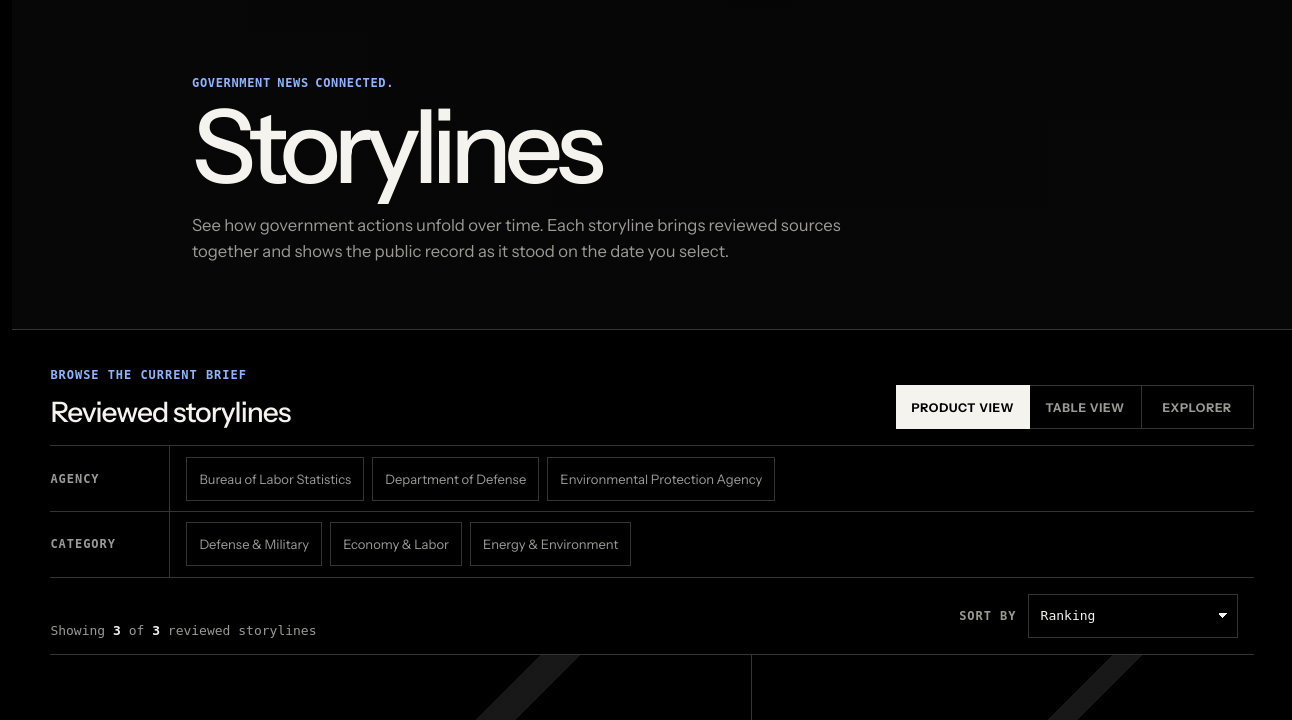
Test case: storyline rendering window › shows storylines matching any selected facet across filter groups
The width and height of the screenshot is (1292, 720).
What coordinates should you click on to do the following:
click the button "Bureau of Labor Statistics"
I would click on:
 (275, 479)
Its box is top-left (186, 457), bottom-right (364, 501).
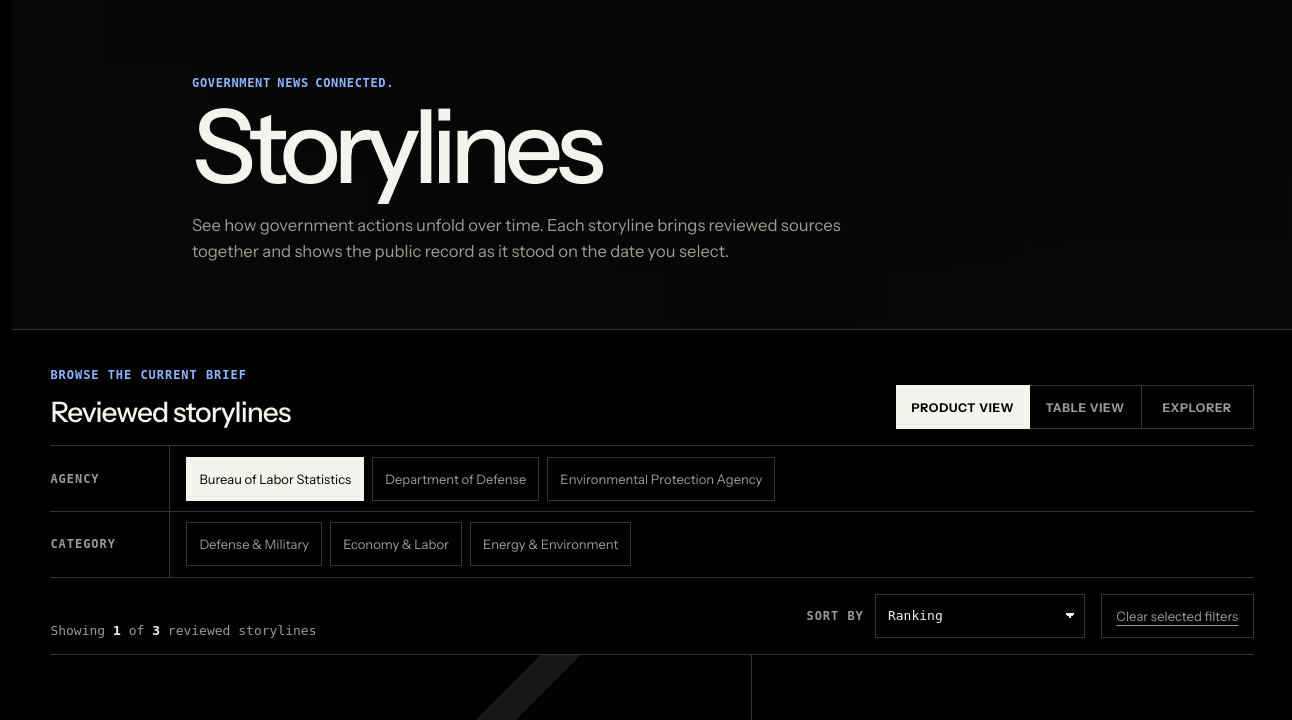
What coordinates should you click on to do the following:
click the button "Defense & Military"
I would click on:
 (254, 544)
Its box is top-left (186, 522), bottom-right (322, 566).
(page scrolled)
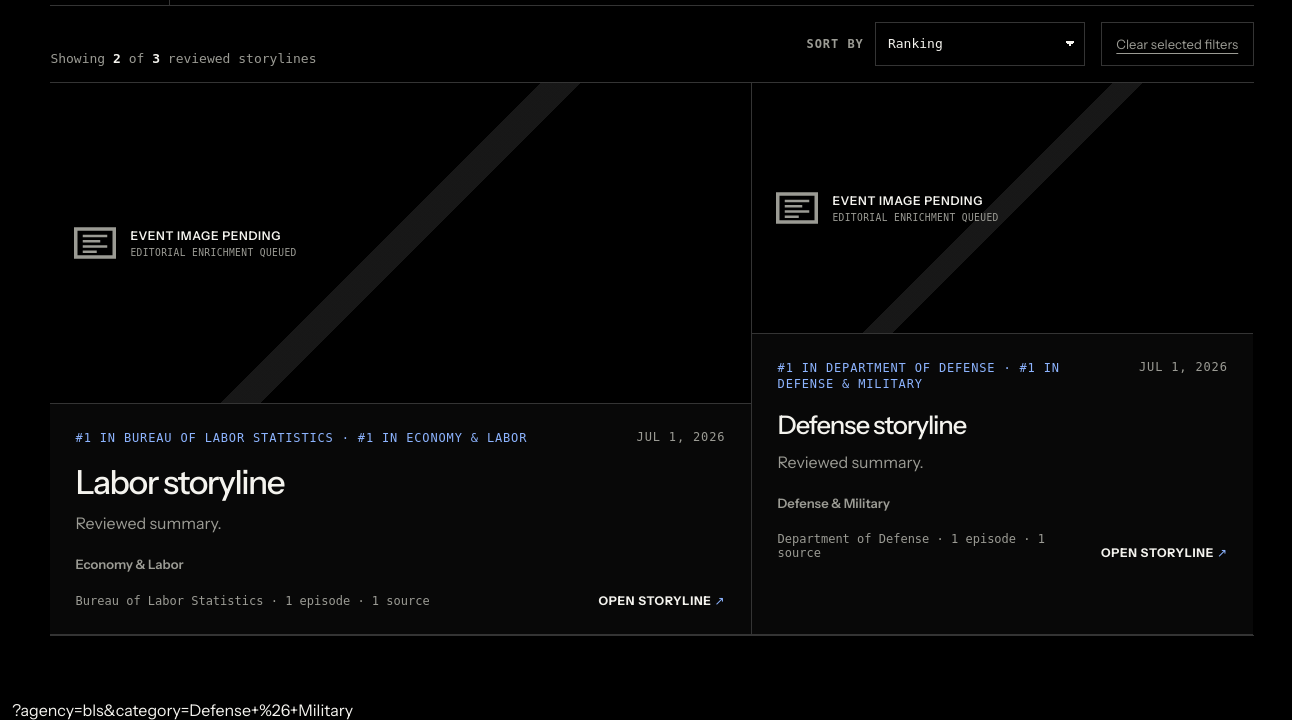
Expected: the heading "Labor storyline" is shown, top-left (76, 461), bottom-right (284, 501)
Result: the heading "Defense storyline" is shown at top-left (778, 409), bottom-right (966, 440)
